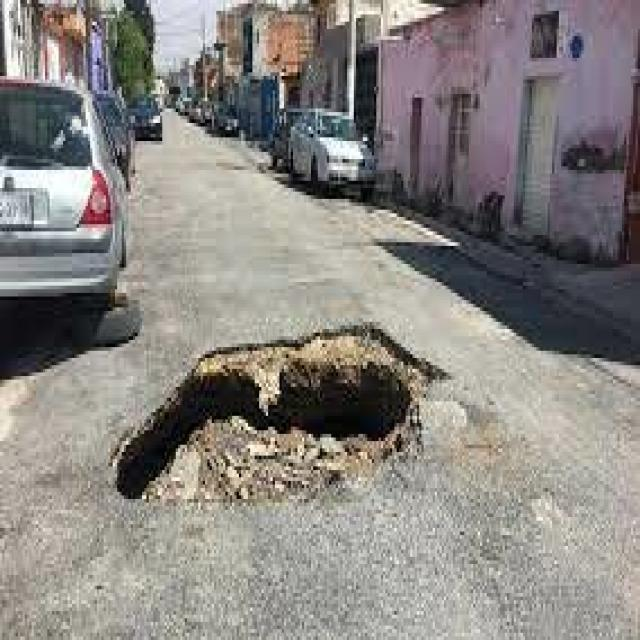pothole: (102, 311, 512, 593)
